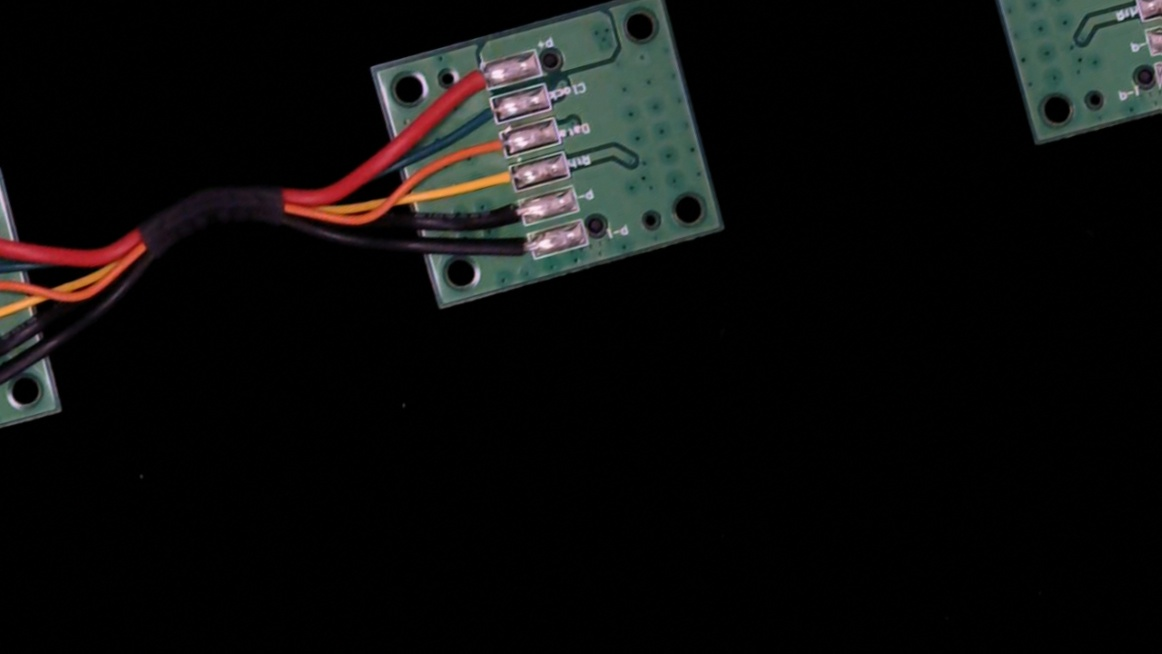Black: (474, 194, 541, 240)
Black1: (490, 233, 550, 274)
Green: (447, 92, 516, 138)
Orange: (454, 128, 524, 173)
Red: (435, 60, 505, 106)
Yellow: (471, 161, 533, 204)
